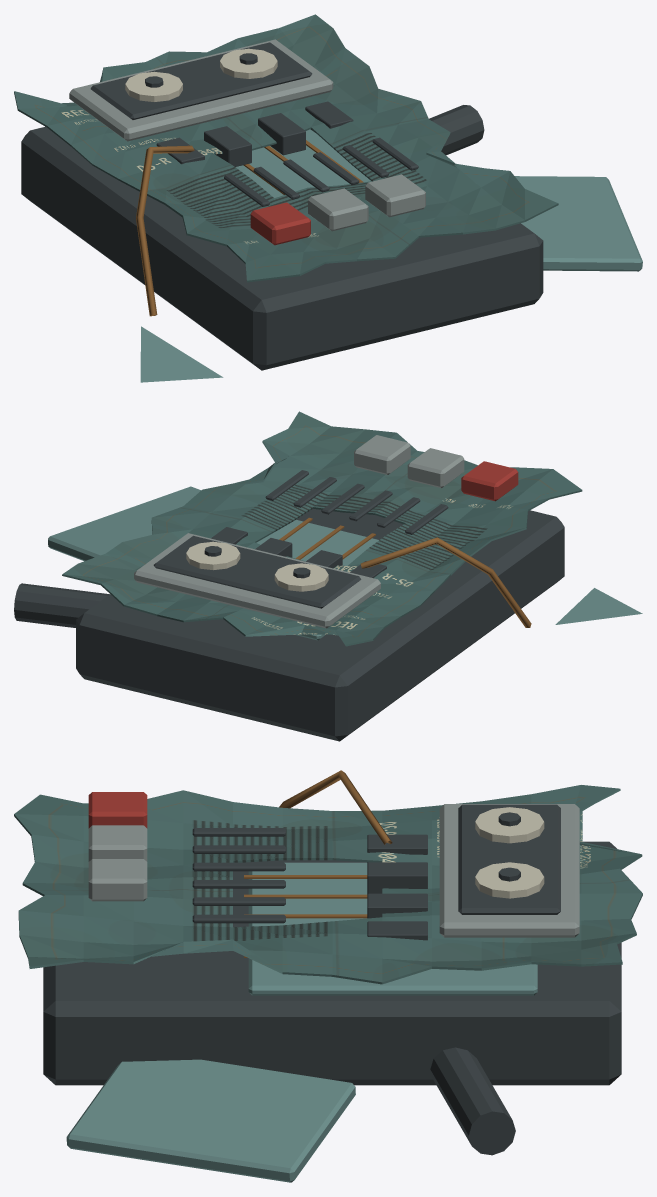
File: DS_Clue_Recorder_Damaged_V02.fbx
3 renders of one model, top to bottom at view 1: azimuth 30°, elevation 25°; view 2: azimuth 150°, elevation 25°; view 3: azimuth 270°, elevation 25°, orthographic. The views are drawn at different scales.
Parts seen in each view (by area): view 1: DS_Clue_Recorder_Damaged_V02; view 2: DS_Clue_Recorder_Damaged_V02; view 3: DS_Clue_Recorder_Damaged_V02.
Part boxes in pixels (x1,y1,x2,y2): DS_Clue_Recorder_Damaged_V02: (14,14,642,382); DS_Clue_Recorder_Damaged_V02: (14,411,642,741); DS_Clue_Recorder_Damaged_V02: (14,770,642,1182).
Size of the model in its own units: 81.72 by 19.09 by 67.44.
7 materials, 1 textured.
